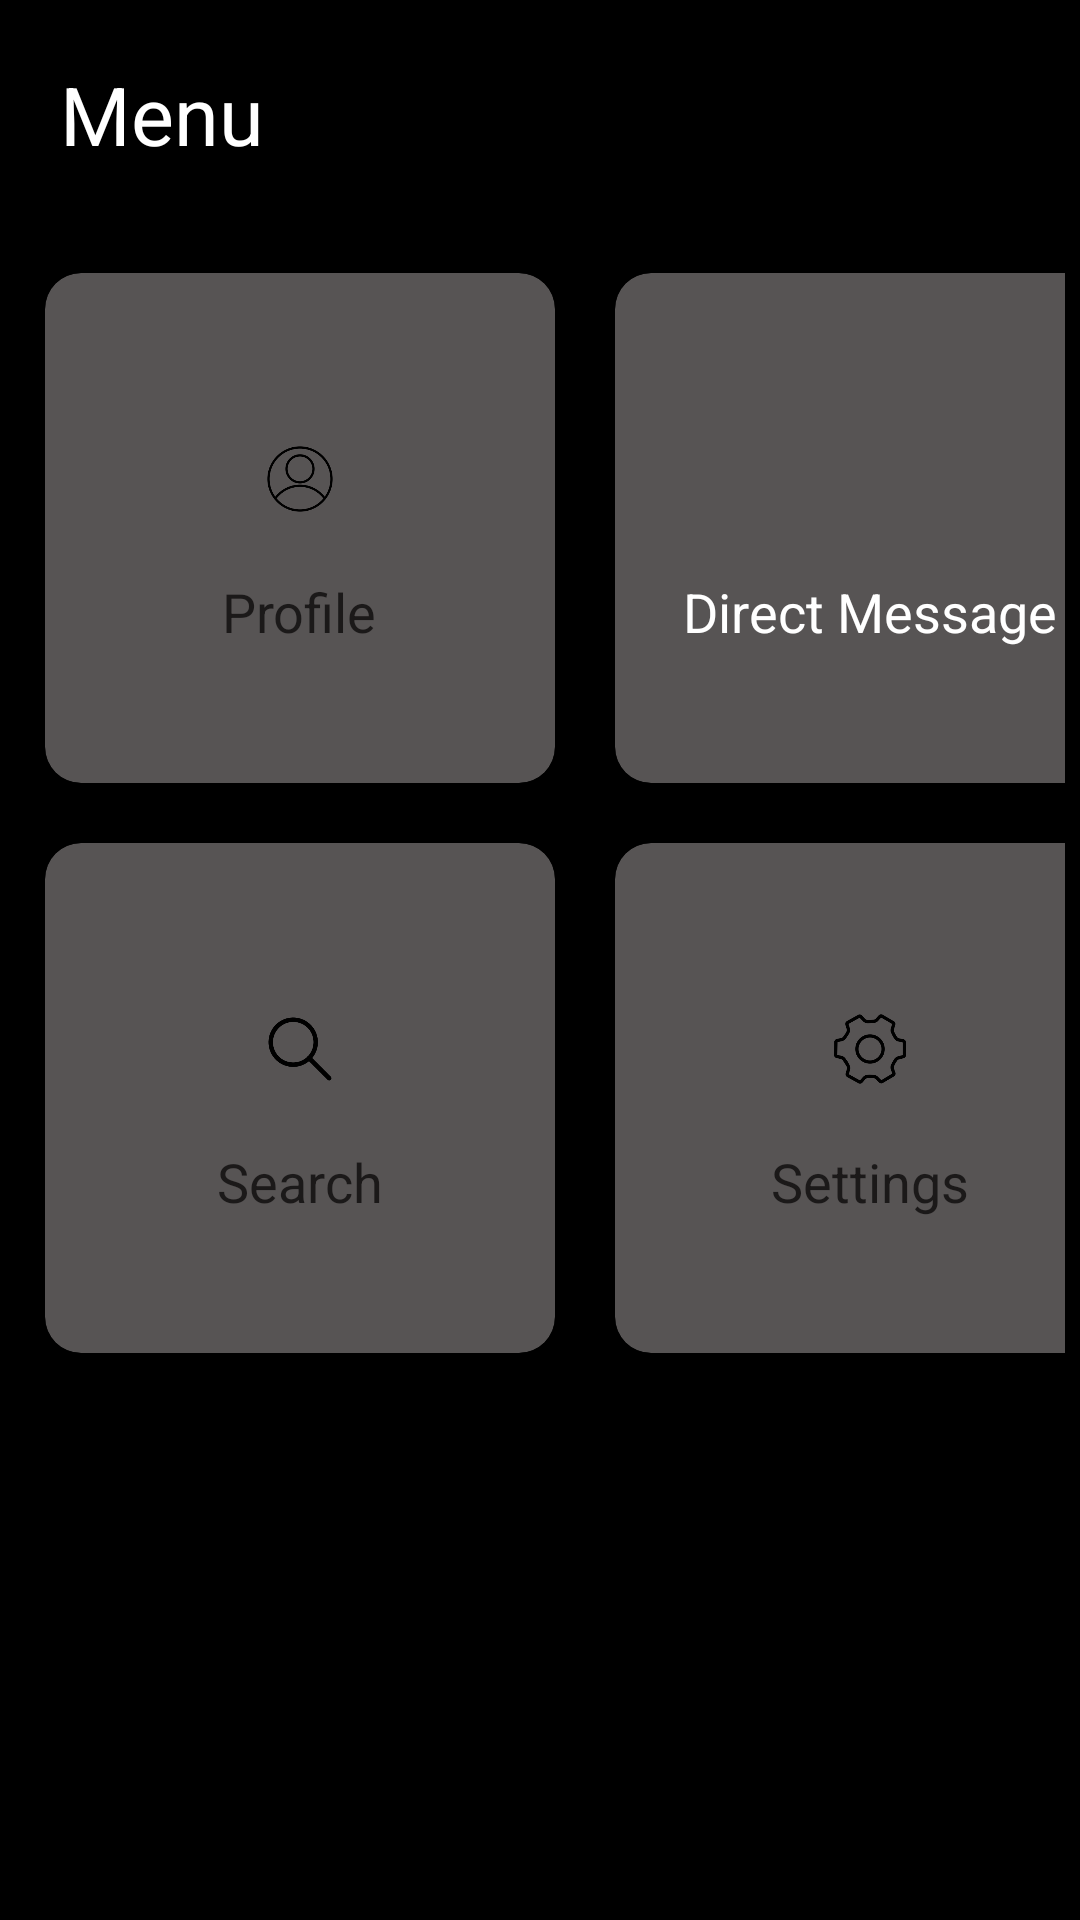

Point at icon controls on the screen. Image size 1080px×1920px, points as [x,y].
user: [300,479]
